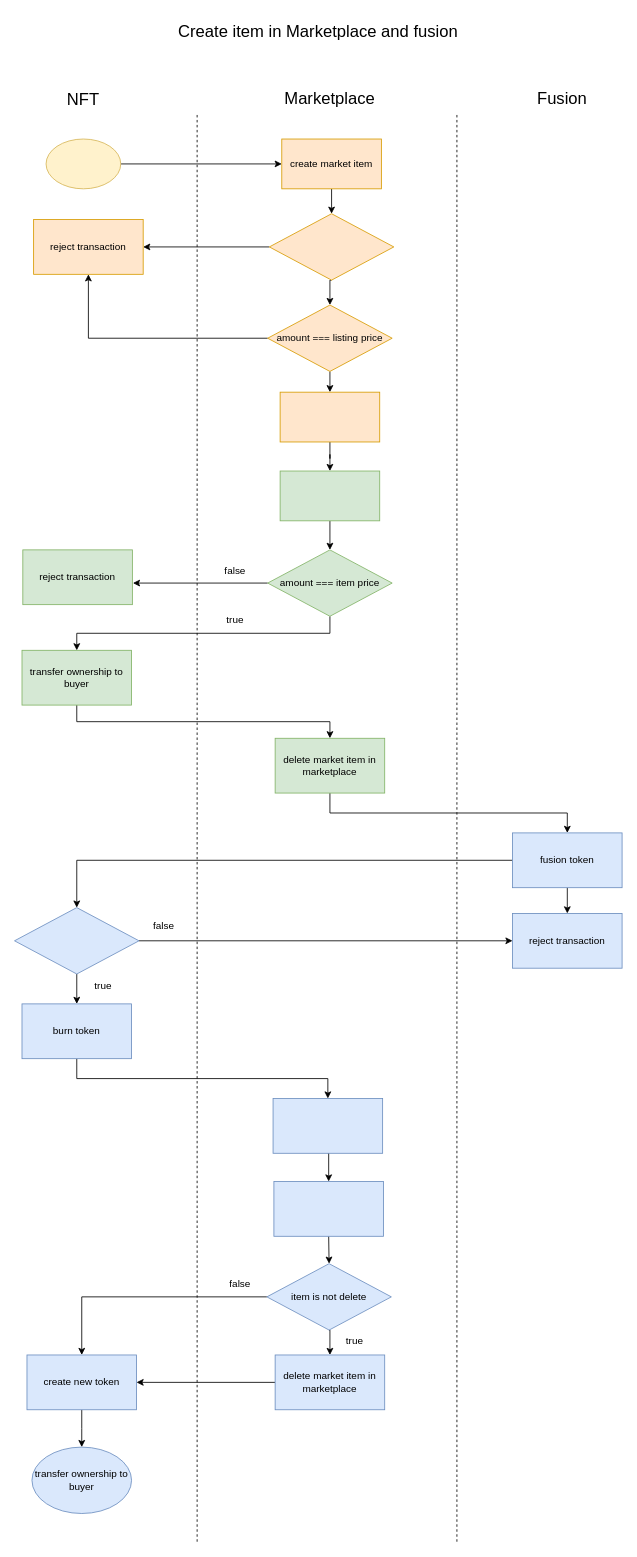
This 637x1557 diagram has some shape labels left out. The shapes that lost their labels are listed below. From the top down, each one's box as (x1, y1, x2, y2) in pixels, then its label:
(45, 138, 121, 189): create token
(269, 213, 394, 280): price > 0 wei
(279, 391, 380, 442): add item to market
(279, 470, 380, 521): create market sale
(14, 907, 139, 974): owner of token is transaction sender
(272, 1098, 383, 1153): find item id by token id
(273, 1181, 383, 1236): check item is in market
